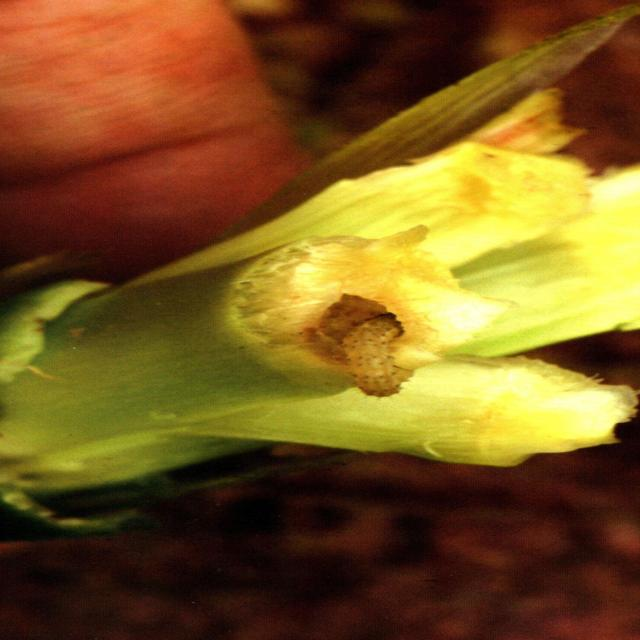peach borer: (333, 316, 415, 408)
